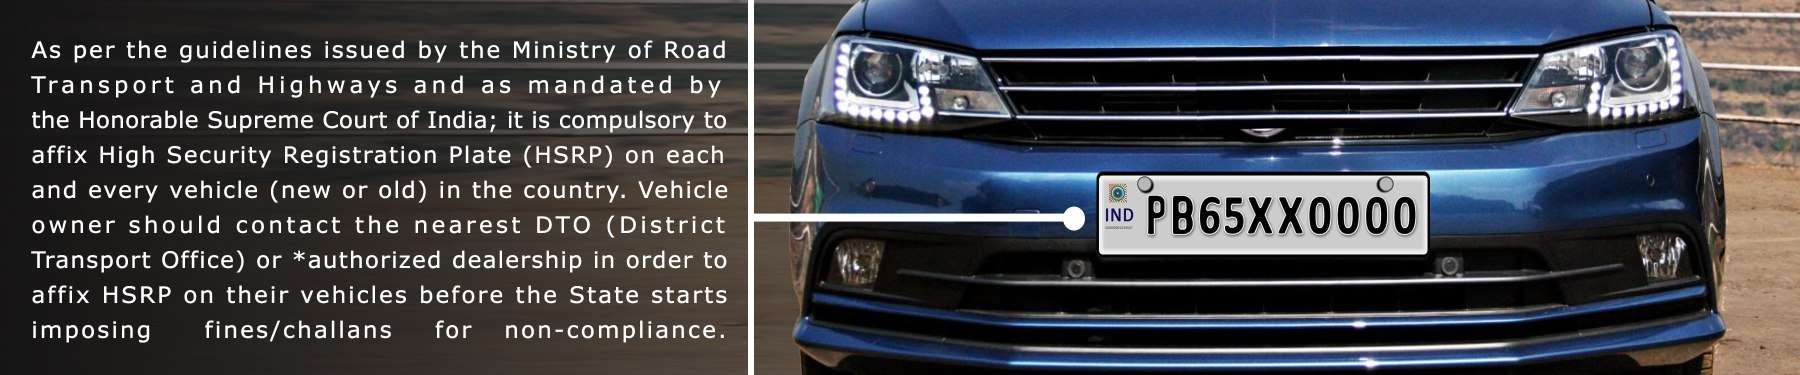number_plate: (1092, 167, 1434, 263)
